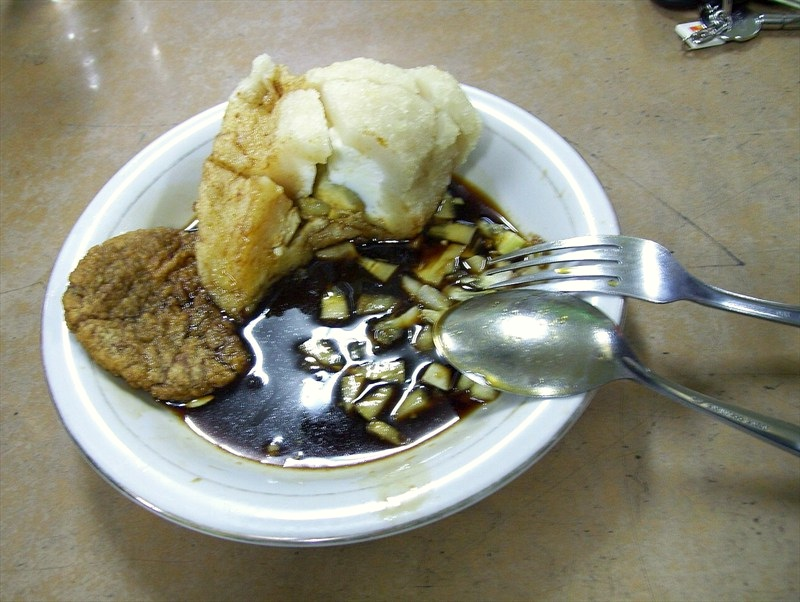Pempek: (57, 94, 643, 528)
